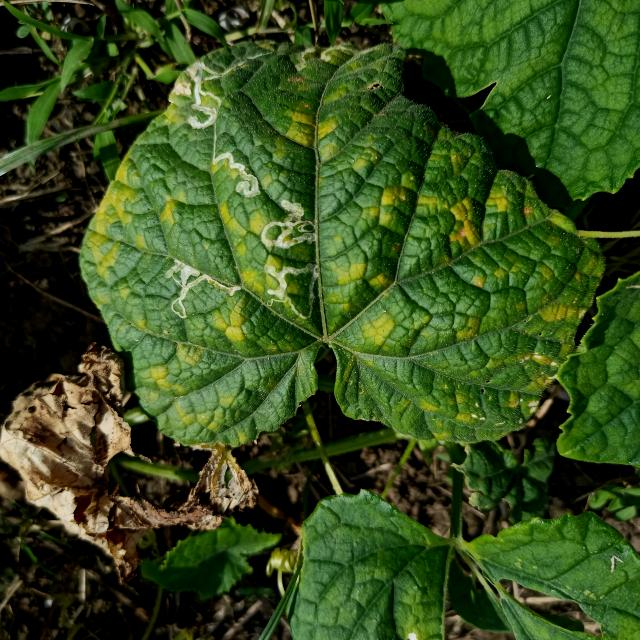disease_cucumber: (90, 45, 570, 435)
